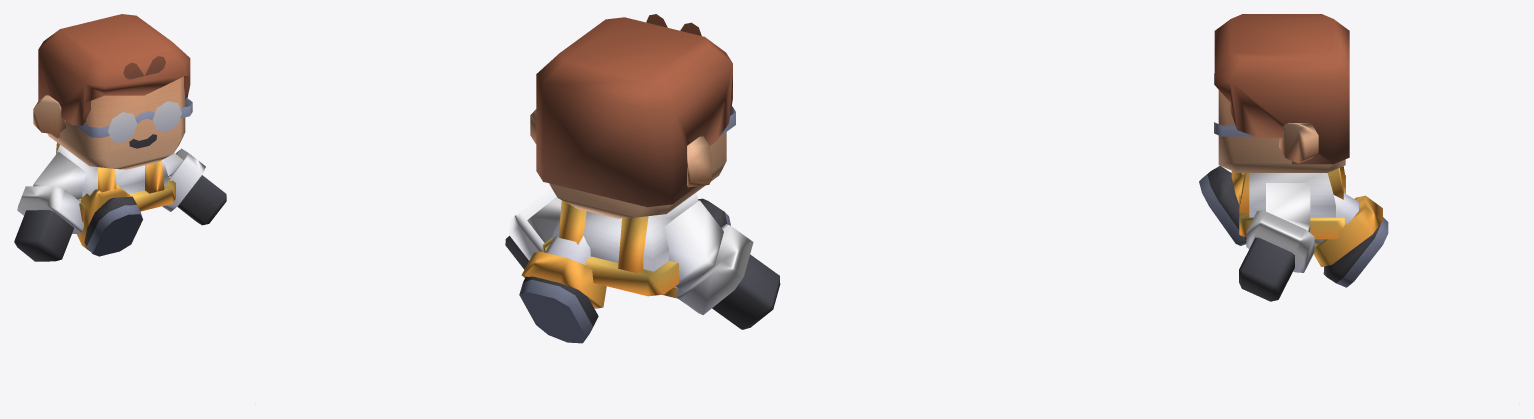
File: builder_idle_0.glb
3 views of the same model, side by side, from view 1: azimuth 30°, elevation 25°; view 2: azimuth 150°, elevation 25°; view 3: azimuth 270°, elevation 25° (orthographic). The views are drawn at different scales.
Visible parts, largest first — view 1: builder-idle-0; view 2: builder-idle-0; view 3: builder-idle-0.
Boxes of the visible parts, x1,y1,x2,y2 form: builder-idle-0: (14, 14, 226, 261); builder-idle-0: (505, 14, 780, 343); builder-idle-0: (1199, 14, 1388, 301).
Size of the model in its own units: 1.2 by 0.751 by 1.2.
1 material, 1 textured.
